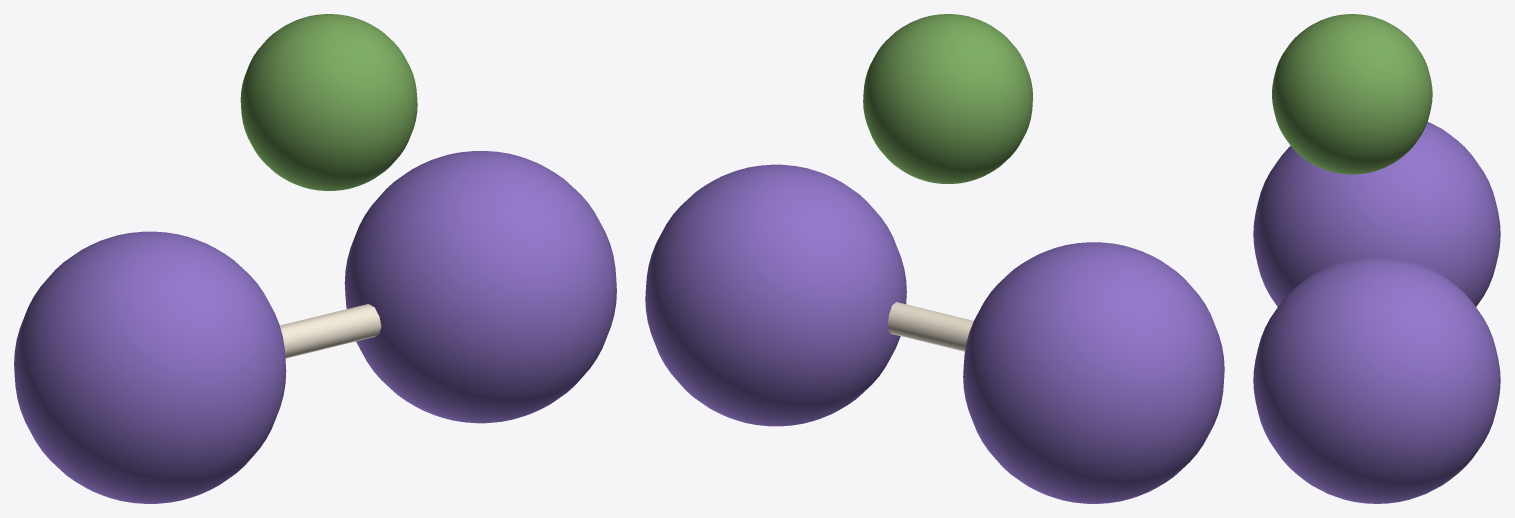
Rendered from bio-genetics-recessive-allele.glb.
The picture shows the model from 3 angles, left to right: view 1: azimuth 30°, elevation 25°; view 2: azimuth 150°, elevation 25°; view 3: azimuth 270°, elevation 25°; orthographic projection. The views are drawn at different scales.
Visible parts, largest first — view 1: recessive-copy-one, recessive-copy-two-needed, trait-appears-when-paired, matching-recessive-pair-link; view 2: recessive-copy-one, recessive-copy-two-needed, trait-appears-when-paired, matching-recessive-pair-link; view 3: recessive-copy-two-needed, recessive-copy-one, trait-appears-when-paired.
Part boxes in pixels (x1,y1,x2,y2): recessive-copy-one: (14, 231, 286, 503); recessive-copy-two-needed: (344, 151, 616, 423); trait-appears-when-paired: (240, 14, 417, 190); matching-recessive-pair-link: (280, 304, 381, 358); recessive-copy-one: (963, 242, 1224, 503); recessive-copy-two-needed: (645, 164, 906, 426); trait-appears-when-paired: (863, 14, 1032, 183); matching-recessive-pair-link: (887, 302, 973, 351); recessive-copy-two-needed: (1253, 257, 1500, 503); recessive-copy-one: (1253, 122, 1500, 306); trait-appears-when-paired: (1272, 14, 1432, 174).
Size of what is drawn, in the model's own units: 0.96 by 0.71 by 0.4.
